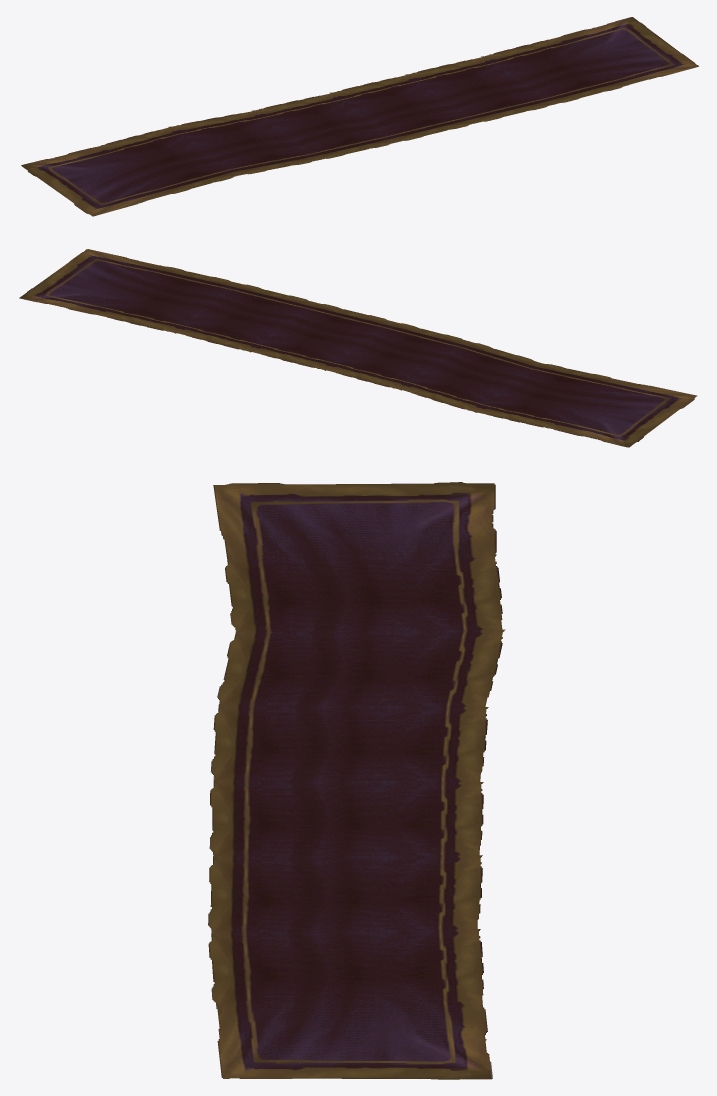
The model's file is carpet_shadow.fbx.
3 renders of one model, top to bottom at view 1: azimuth 30°, elevation 25°; view 2: azimuth 150°, elevation 25°; view 3: azimuth 270°, elevation 25°, orthographic. The views are drawn at different scales.
Visible parts, largest first — view 1: carpet_shadow_mat; view 2: carpet_shadow_mat; view 3: carpet_shadow_mat.
Boxes of the visible parts, bbox=[...] form: carpet_shadow_mat: bbox=[21, 17, 698, 216]; carpet_shadow_mat: bbox=[19, 249, 697, 447]; carpet_shadow_mat: bbox=[208, 482, 505, 1079].
Size of the model in its own units: 14.97 by 0 by 3.26.
